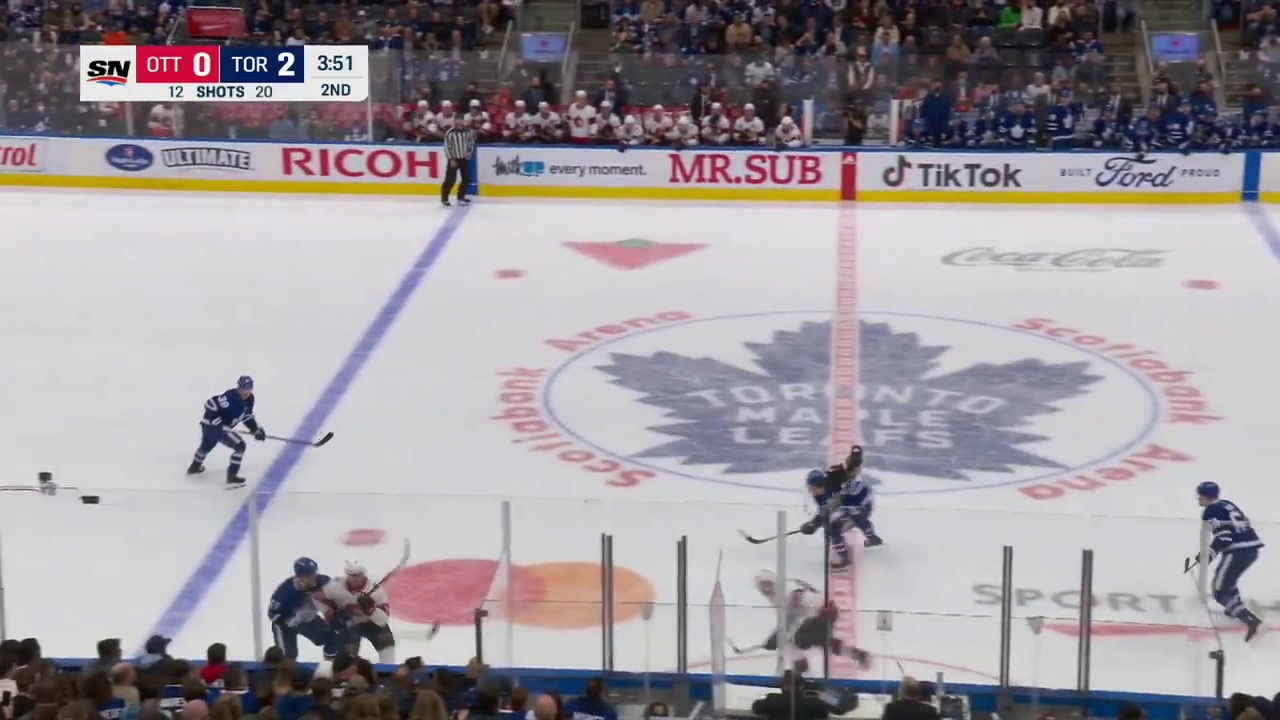hockeyplayer: (752, 568, 871, 677), (1196, 481, 1265, 645), (799, 445, 887, 573), (267, 556, 359, 662), (187, 375, 266, 490), (313, 557, 396, 664)
referee: (439, 112, 474, 207)
